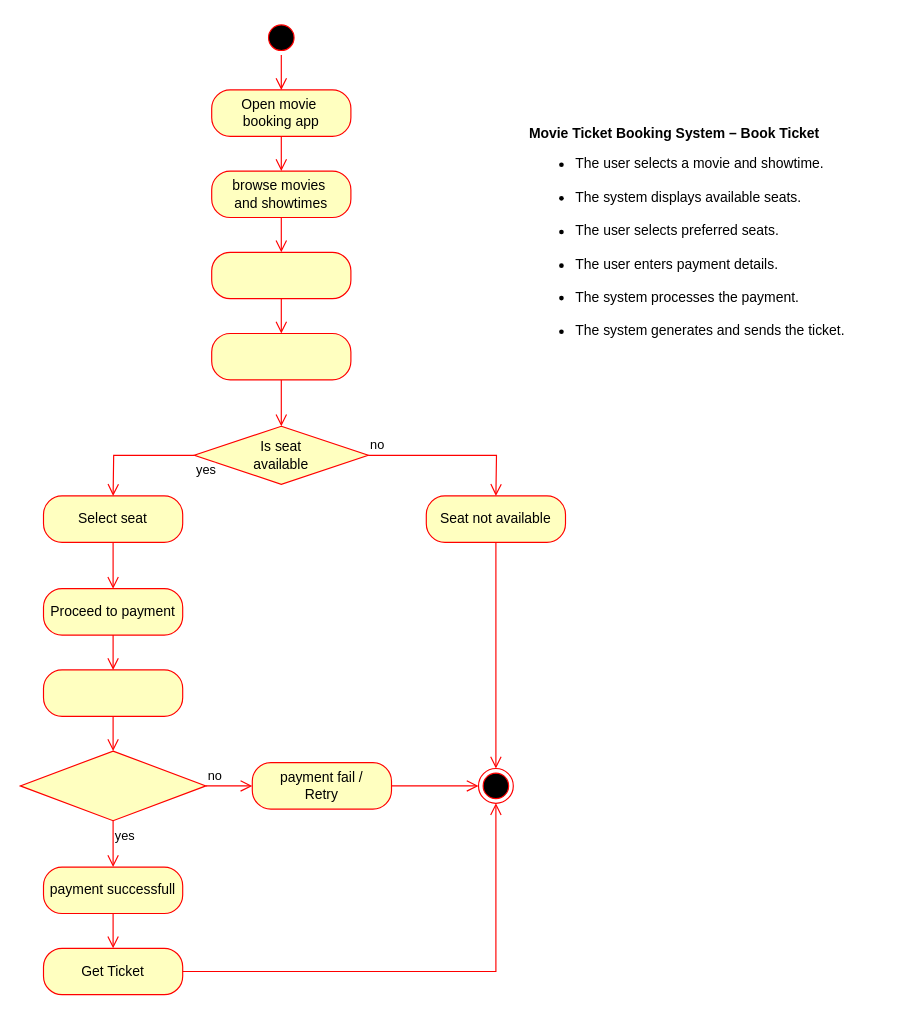
The diagram is 922 pixels wide and 1015 high, and some of its shapes have lost their labels. Each missing label, with the centre of its shape:
Check available seats: point 281,356
Check balance (bank server): point 112,692
is sufficient balance?: point 112,785
Select movie and showtime: point 281,275
